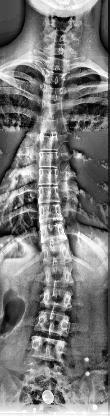Vertebrae: (25, 334, 71, 364), (33, 308, 73, 338), (40, 286, 78, 310), (39, 241, 73, 265), (44, 264, 78, 288), (38, 222, 72, 244), (36, 130, 66, 154), (38, 202, 68, 225), (38, 97, 66, 121), (35, 149, 65, 171), (34, 167, 66, 187), (43, 66, 69, 88), (40, 81, 68, 101), (37, 186, 65, 206), (38, 117, 66, 135), (45, 55, 70, 73)
